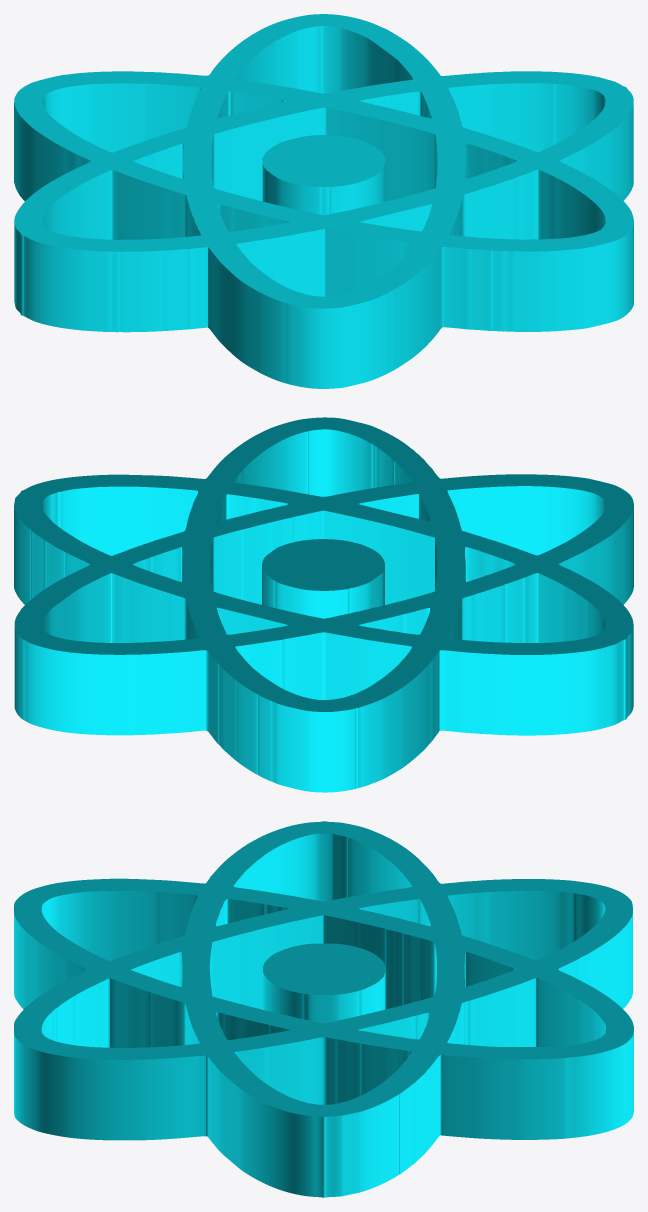
File: react.glb
3 views of the same model, one above another, from view 1: azimuth 30°, elevation 25°; view 2: azimuth 150°, elevation 25°; view 3: azimuth 270°, elevation 25° (orthographic).
Parts seen in each view (by area): view 1: Node1, Node2; view 2: Node1, Node2; view 3: Node1, Node2.
Part boxes in pixels (bbox=[...]): Node1: bbox=[14, 14, 633, 388]; Node2: bbox=[262, 135, 385, 215]; Node1: bbox=[14, 417, 633, 792]; Node2: bbox=[262, 539, 384, 618]; Node1: bbox=[14, 821, 633, 1197]; Node2: bbox=[263, 943, 385, 1023].
Bounding box in the file's own units: 3.94 × 0.5 × 3.49.
